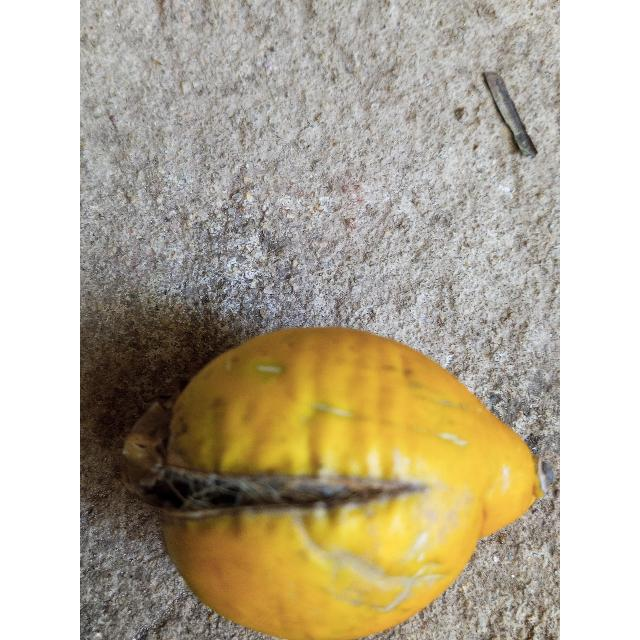damaged: (121, 328, 547, 640)
